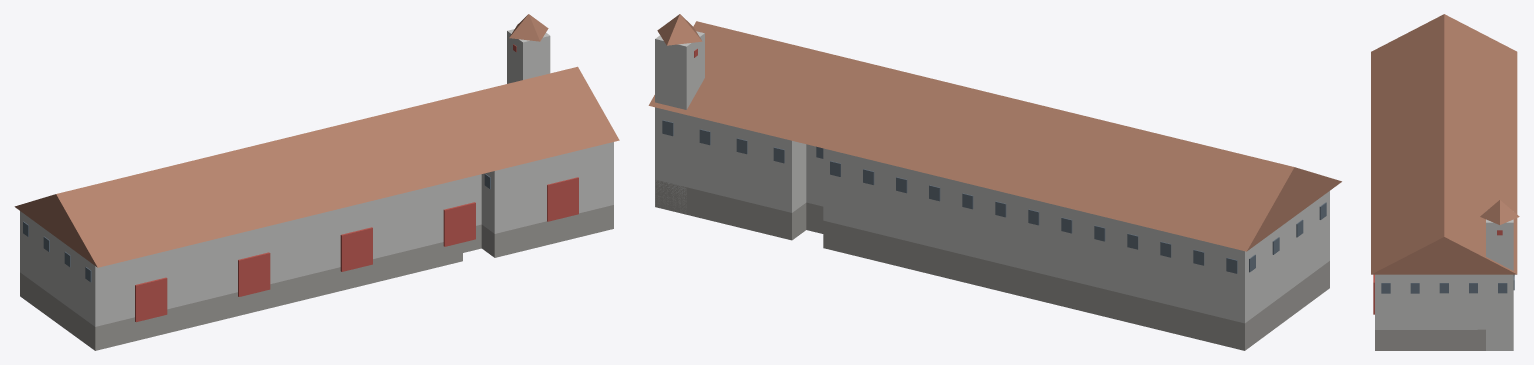
File: landmark-fire_station-freiwillige-feuerwehr-kandern.glb
3 renders of one model, left to right at view 1: azimuth 30°, elevation 25°; view 2: azimuth 150°, elevation 25°; view 3: azimuth 270°, elevation 25°, orthographic. The views are drawn at different scales.
Parts seen in each view (by area): view 1: building; view 2: building; view 3: building.
Part boxes in pixels (x1=…): building: x1=14, y1=14, x2=619, y2=350; building: x1=648, y1=14, x2=1341, y2=350; building: x1=1371, y1=14, x2=1519, y2=350.
Bounding box in the file's own units: 57.15 × 17.28 × 16.05.
